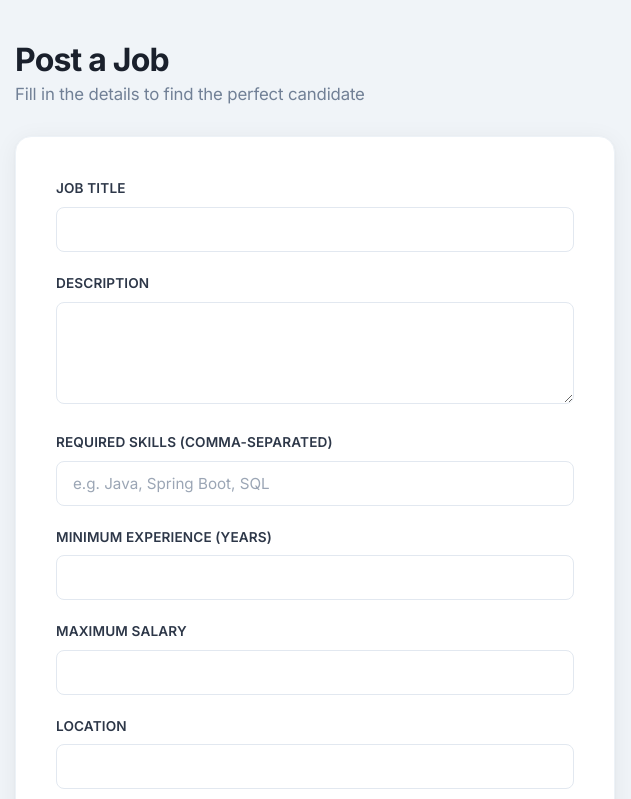
it: PostJob › disables button and shows loading text while posting
Type "Dev" into the field labelled "Job Title". click: [315, 229]
box: [56,207,574,252]
Type "Desc" into the text box labelled "Description". click: [315, 352]
box: [56,302,574,404]
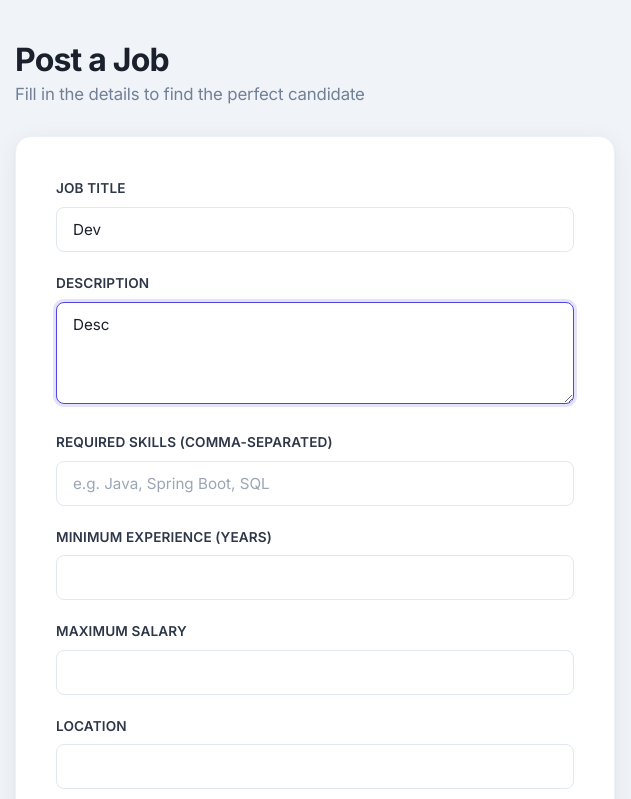
Type "JS" into the field labelled "Required Skills (comma-separated)". click: [315, 483]
box: [56,460,574,506]
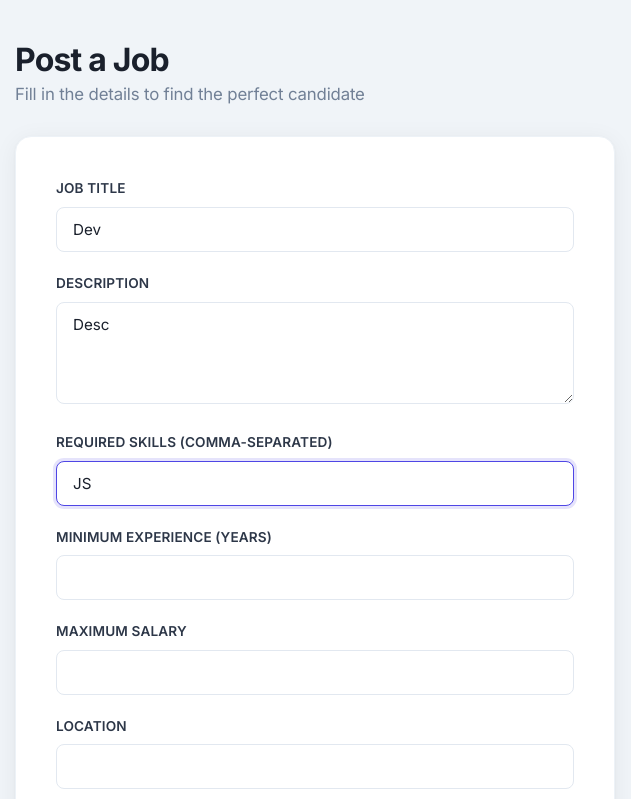
Type "1" into the number field labelled "Minimum Experience (years)". click: [315, 578]
box: [56,555,574,600]
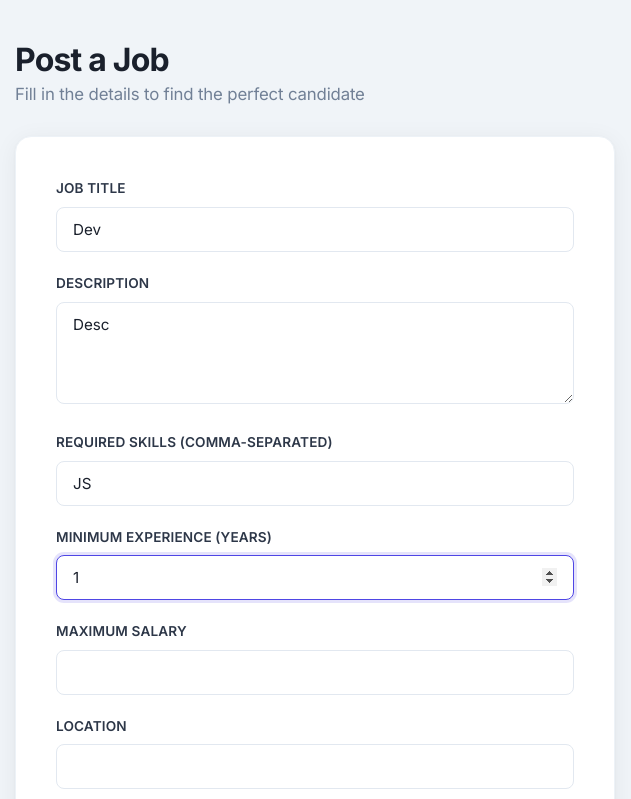
Type "50000" into the number field labelled "Maximum Salary". click: [315, 672]
box: [56,650,574,695]
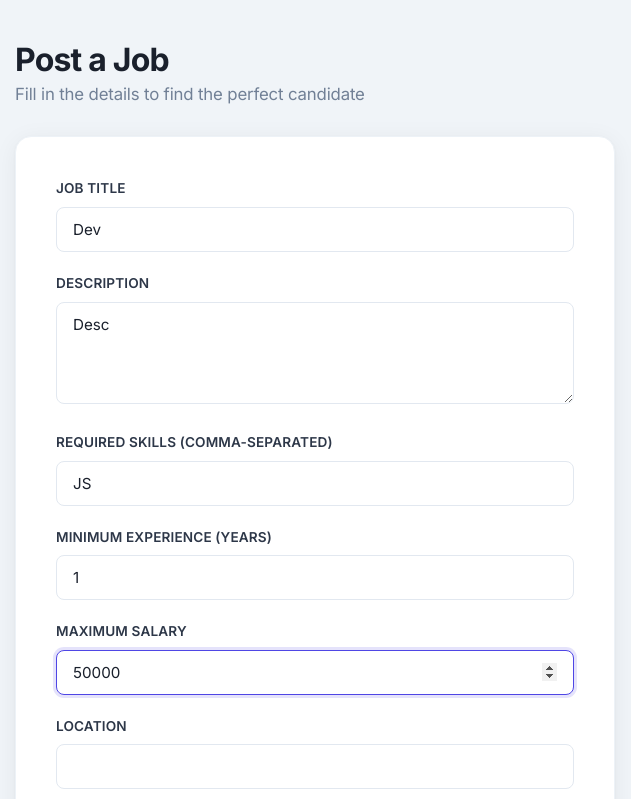
Type "Remote" into the field labelled "Location". click: [315, 767]
box: [56,744,574,789]
(page scrolled)
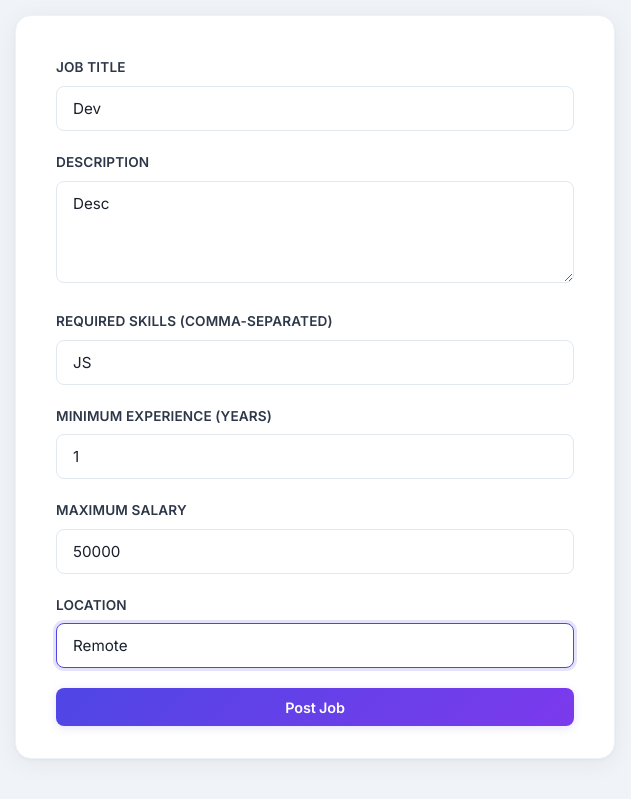
Click the button "Post Job". click: [315, 707]
box: [56,688,574,726]
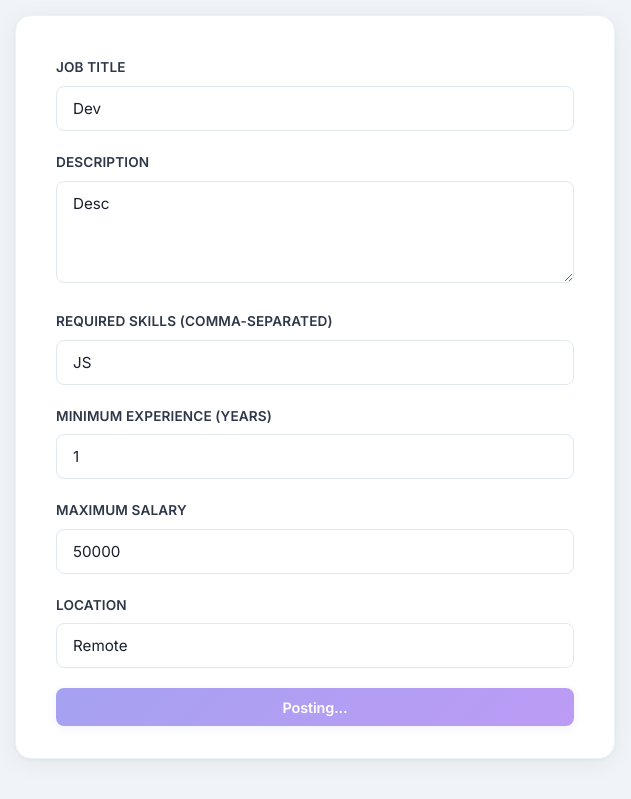
Result: the button "Posting..." is disabled at [56,688,574,726]
